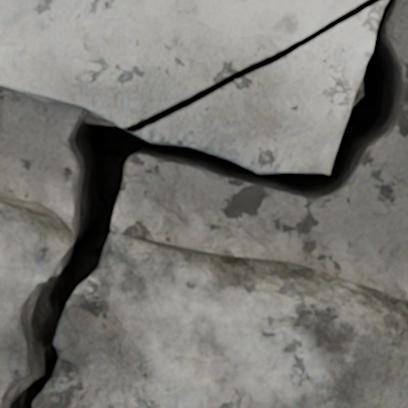brick: (0, 0, 364, 126)
broken_brick: (35, 231, 407, 407), (0, 191, 72, 404)
crack: (0, 0, 406, 407)
